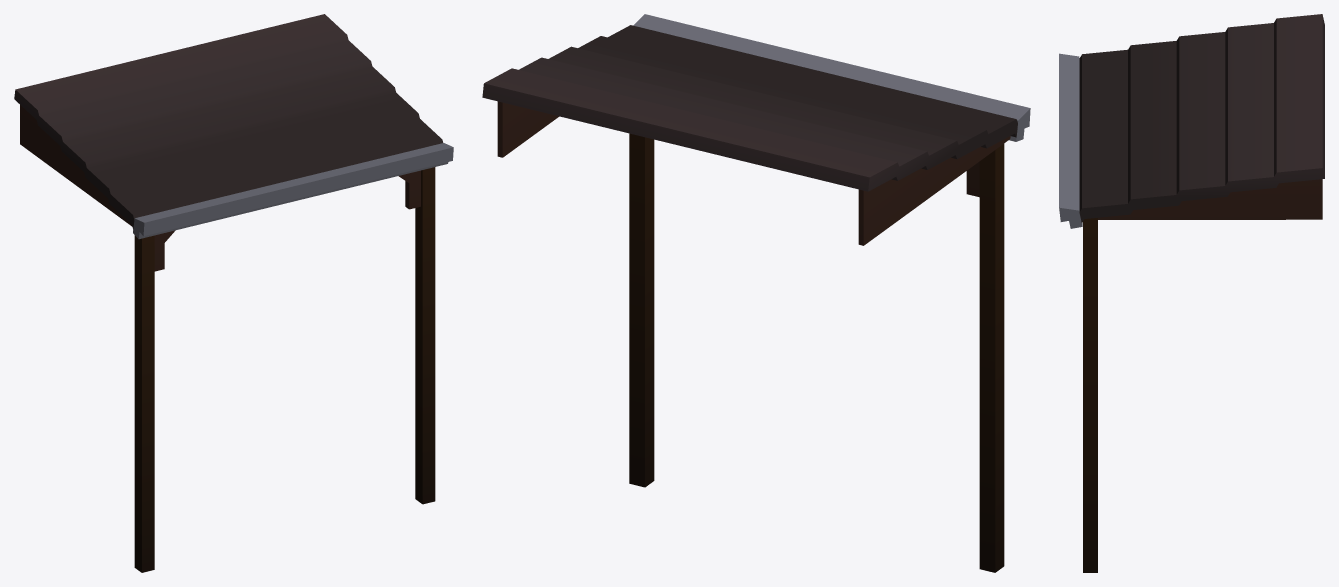
File: Awning 3M.glb
3 views of the same model, side by side, from view 1: azimuth 30°, elevation 25°; view 2: azimuth 150°, elevation 25°; view 3: azimuth 270°, elevation 25° (orthographic). The views are drawn at different scales.
Parts seen in each view (by area): view 1: awning 3M; view 2: awning 3M; view 3: awning 3M.
Boxes of the visible parts, bbox=[...] form: awning 3M: bbox=[14, 14, 453, 572]; awning 3M: bbox=[482, 14, 1030, 572]; awning 3M: bbox=[1059, 14, 1324, 572].
Size of what is drawn, in the model's own units: 3 by 3.71 by 2.19.
1 material, 1 textured.
